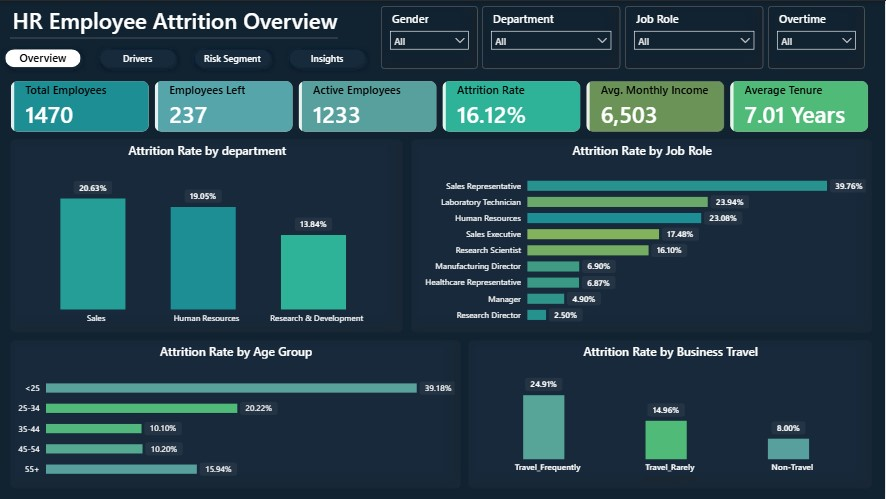

What the dashboard file says about the page in this screenshot:
{"tool":"powerbi","page":{"name":"Overview","canvas":[1280,720],"ordinal":0},"visuals":[{"type":"cardVisual","fields":{"Data":["_Measures.Total Employees","_Measures.Employees Left","_Measures.Active Employees","_Measures.Attrition Rate","_Measures.Average Monthly Income","_Measures.Average Tenure Display"]},"box":[0,98.3,1279.5,108],"z":0},{"type":"clusteredColumnChart","fields":{"Category":["HR_Employee.department"],"Y":["_Measures.Attrition Rate"]},"box":[15.9,199.5,568.2,280.5],"z":1000},{"type":"clusteredBarChart","title":"Attrition Rate by Job Role","fields":{"Category":["HR_Employee.job_role"],"Y":["_Measures.Attrition Rate"]},"box":[595.7,199.5,666.5,280.5],"z":2000},{"type":"clusteredBarChart","title":"Attrition Rate by Age Group","fields":{"Category":["HR_Employee.age_group"],"Y":["_Measures.Attrition Rate"]},"box":[15.9,490.1,652,215.4],"z":3000},{"type":"clusteredColumnChart","title":" Attrition Rate by Business Travel","fields":{"Category":["HR_Employee.business_travel"],"Y":["_Measures.Attrition Rate"]},"box":[678.1,490.1,584.1,215.4],"z":4000},{"type":"shape","box":[15.9,43.4,474.2,20.2],"z":5000},{"type":"textbox","box":[5.8,0,498.8,73.7],"z":6000},{"type":"slicer","fields":{"Values":["HR_Employee.department"]},"box":[698.3,7.2,199.5,91.1],"z":7000},{"type":"slicer","fields":{"Values":["HR_Employee.job_role"]},"box":[905.1,7.2,199.5,91.1],"z":8000},{"type":"slicer","fields":{"Values":["HR_Employee.overtime"]},"box":[1111.8,7.2,140,91.1],"z":9000},{"type":"slicer","fields":{"Values":["HR_Employee.gender"]},"box":[552.3,7.2,140.2,91.1],"z":10000},{"type":"pageNavigator","box":[0,60.7,540.7,44.8],"z":11000}]}

Visuals, with their boxes in screenshot pixels (x1, y1, x2, y2), scaled from the page's 1280x720 canvas onto the 886x499 screenshot:
cardVisual - _Measures.Total Employees x _Measures.Employees Left: BBox(0, 68, 885, 143)
clusteredColumnChart - HR_Employee.department x _Measures.Attrition Rate: BBox(11, 138, 404, 333)
"Attrition Rate by Job Role" clusteredBarChart: BBox(412, 138, 874, 333)
"Attrition Rate by Age Group" clusteredBarChart: BBox(11, 340, 462, 489)
" Attrition Rate by Business Travel" clusteredColumnChart: BBox(469, 340, 874, 489)
shape: BBox(11, 30, 339, 44)
textbox: BBox(4, 0, 349, 51)
slicer - HR_Employee.department: BBox(483, 5, 621, 68)
slicer - HR_Employee.job_role: BBox(626, 5, 765, 68)
slicer - HR_Employee.overtime: BBox(770, 5, 866, 68)
slicer - HR_Employee.gender: BBox(382, 5, 479, 68)
pageNavigator: BBox(0, 42, 374, 73)
